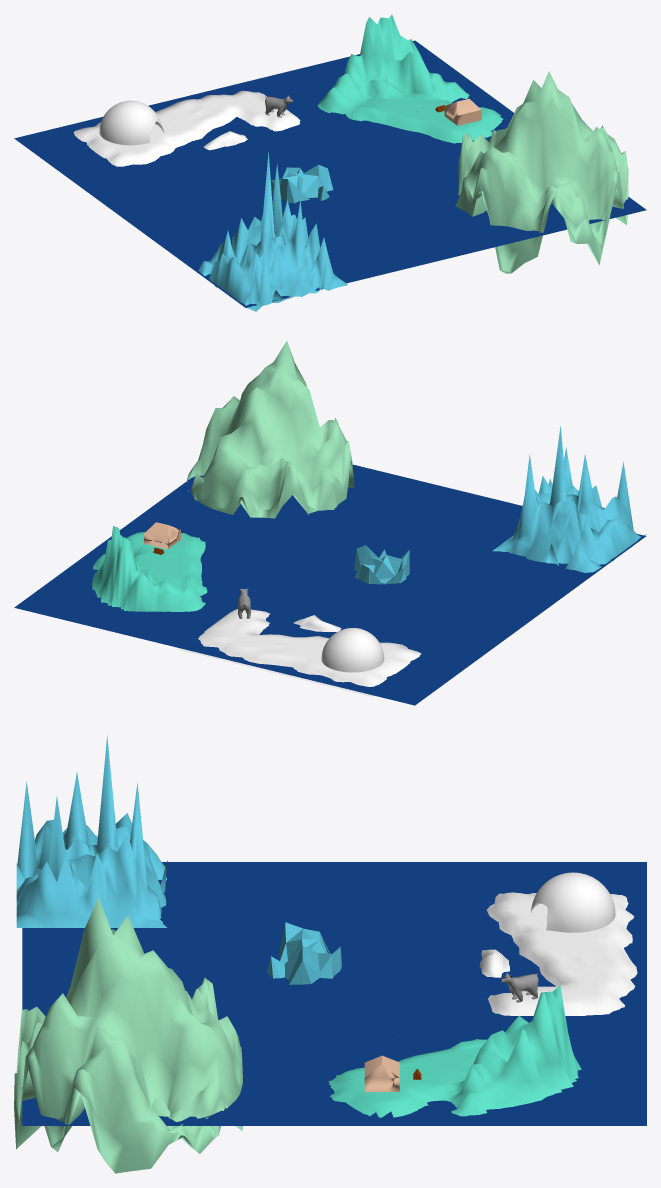
The model's file is low_poly_tree.obj.
3 renders of one model, top to bottom at view 1: azimuth 30°, elevation 25°; view 2: azimuth 150°, elevation 25°; view 3: azimuth 270°, elevation 25°, orthographic. The views are drawn at different scales.
Parts seen in each view (by area): view 1: Water, GeoSphere002, house_island, Mountain, Plane001, GeoSphere004, GeoSphere001, house; view 2: Water, GeoSphere002, Mountain, house_island, Plane001, GeoSphere004, GeoSphere001, house; view 3: Water, GeoSphere002, Mountain, house_island, Plane001, GeoSphere004, GeoSphere001, house, polar_bear.
Boxes of the visible parts, box(x1,y1,x2,y2) form: Water: box(14, 40, 646, 307); GeoSphere002: box(455, 71, 628, 273); house_island: box(317, 14, 503, 143); Mountain: box(197, 152, 347, 311); Plane001: box(73, 90, 300, 166); GeoSphere004: box(99, 100, 164, 145); GeoSphere001: box(270, 164, 333, 203); house: box(444, 98, 481, 125); Water: box(14, 464, 646, 705); GeoSphere002: box(187, 341, 354, 518); Mountain: box(492, 426, 646, 574); house_island: box(92, 526, 207, 611); Plane001: box(178, 609, 421, 696); GeoSphere004: box(321, 628, 384, 672); GeoSphere001: box(354, 545, 409, 584); house: box(144, 522, 180, 549); Water: box(22, 862, 646, 1125); GeoSphere002: box(14, 897, 242, 1173); Mountain: box(16, 735, 167, 927); house_island: box(328, 985, 581, 1117); Plane001: box(479, 892, 637, 1015); GeoSphere004: box(530, 872, 615, 932); GeoSphere001: box(267, 922, 342, 984); house: box(364, 1055, 399, 1091); polar_bear: box(500, 972, 538, 1002).
Bounding box in the file's own units: 2047 × 862 × 2027.
12 materials, 4 textured.
